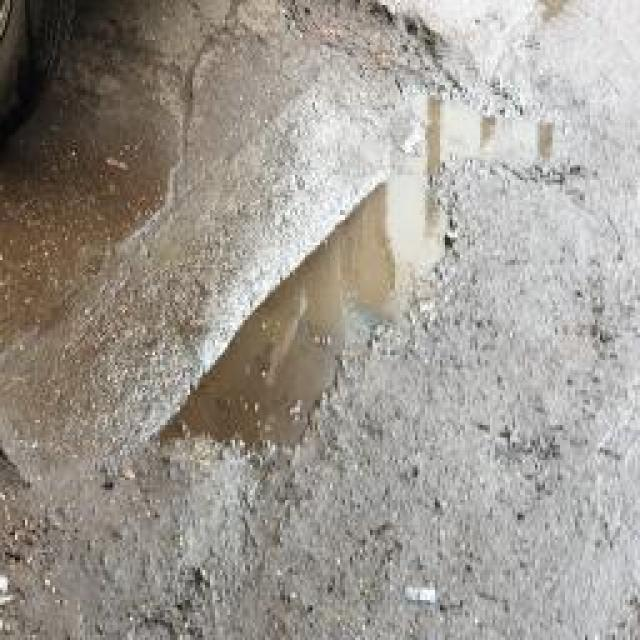waterlogging: (141, 89, 581, 467)
